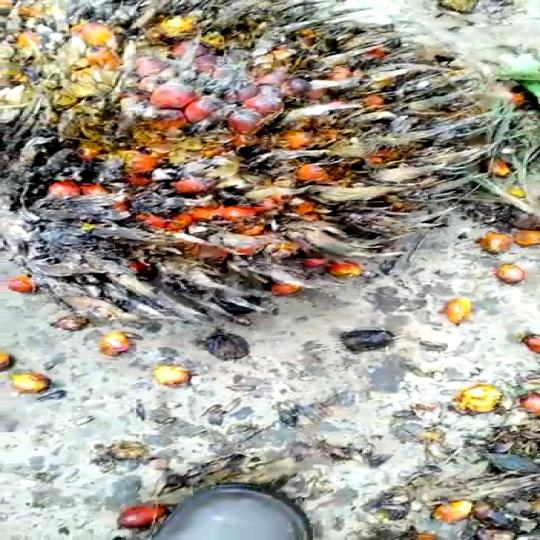terlalu masak: (0, 4, 522, 329)
